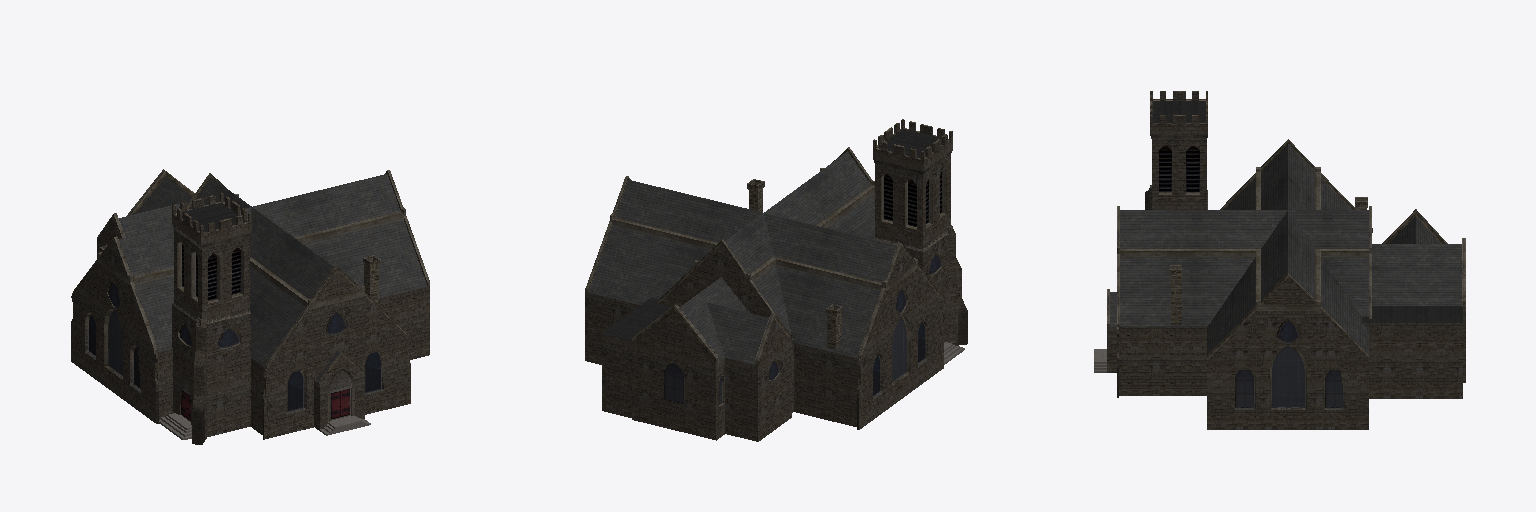
The picture shows the model from 3 angles: view 1: azimuth 30°, elevation 25°; view 2: azimuth 150°, elevation 25°; view 3: azimuth 270°, elevation 25°; orthographic projection.
Parts seen in each view (by area): view 1: Cube; view 2: Cube; view 3: Cube.
Boxes of the visible parts, x1=… form: Cube: x1=71, y1=169, x2=429, y2=444; Cube: x1=585, y1=119, x2=967, y2=441; Cube: x1=1094, y1=91, x2=1465, y2=429.
Size of the model in its own units: 2600 by 1913 by 3035.
Materials: 1 (1 with a texture image).